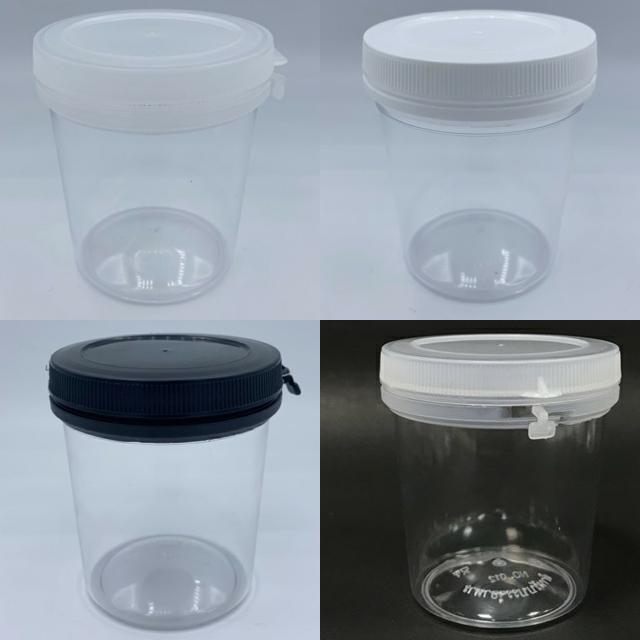Single-Use-Plastic: (34, 10, 285, 304), (49, 334, 299, 629), (379, 334, 621, 629), (362, 10, 598, 301)
